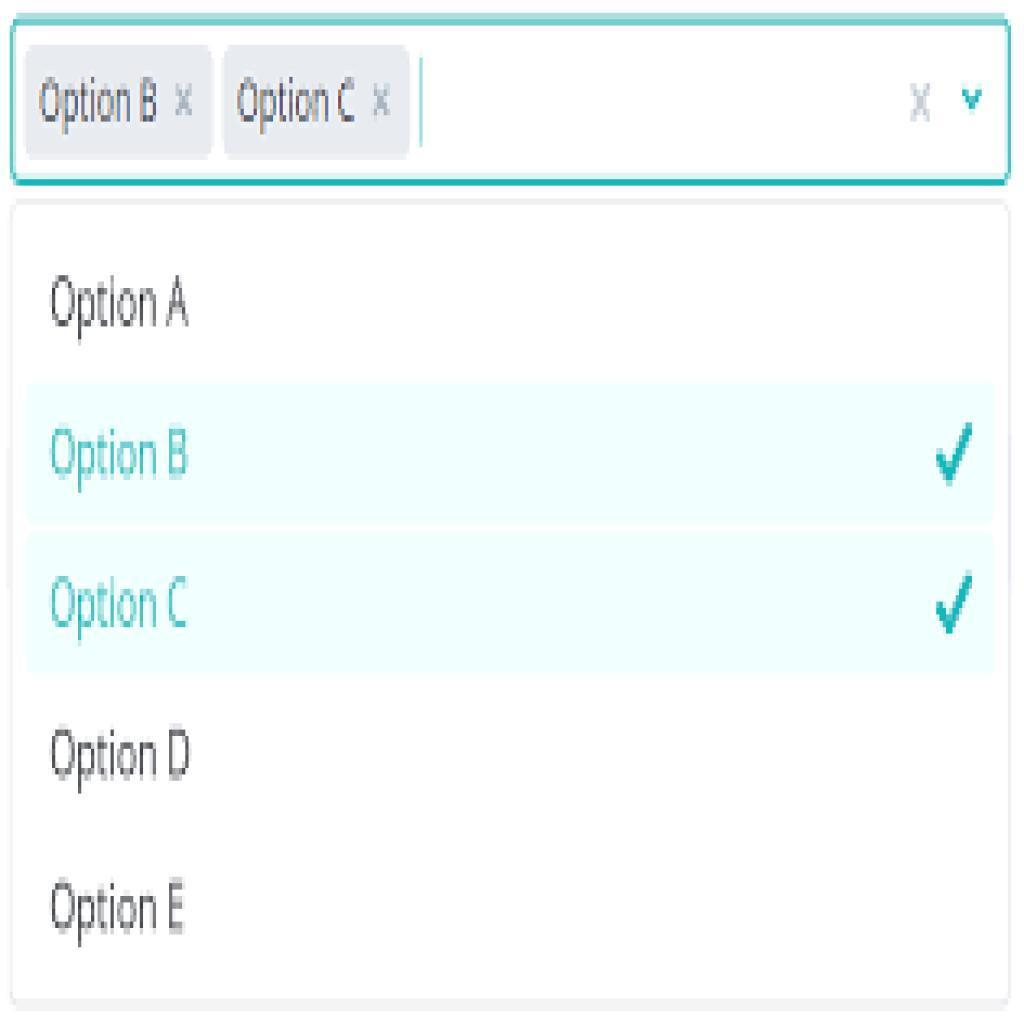dropdown: (9, 19, 1011, 183)
icon: (925, 417, 983, 495), (933, 571, 979, 644)
